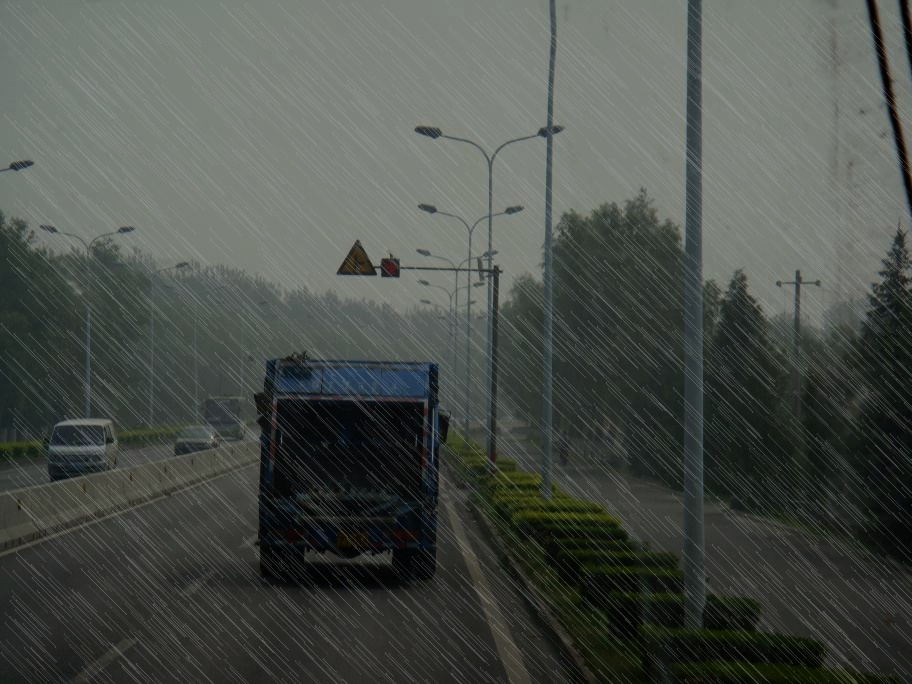Warning Signs: (334, 236, 379, 278)
